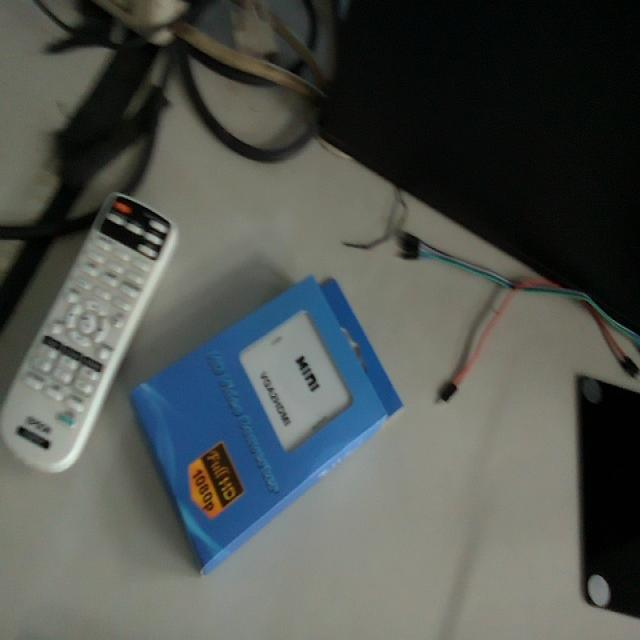remote: (136, 280, 408, 572), (7, 190, 178, 473)
